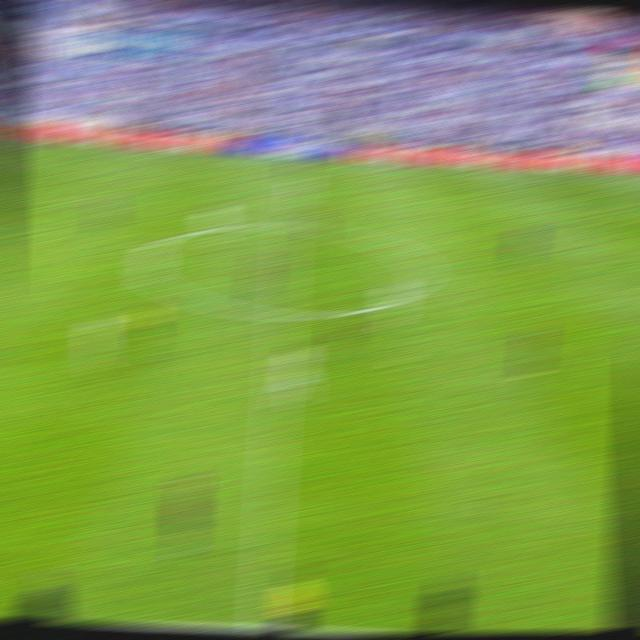halfcircle_bottom: (268, 301, 296, 326)
halfcircle_top: (276, 217, 300, 235)
midline_bottom_intersection: (246, 609, 278, 632)
midline_top_intersection: (280, 156, 303, 168)
